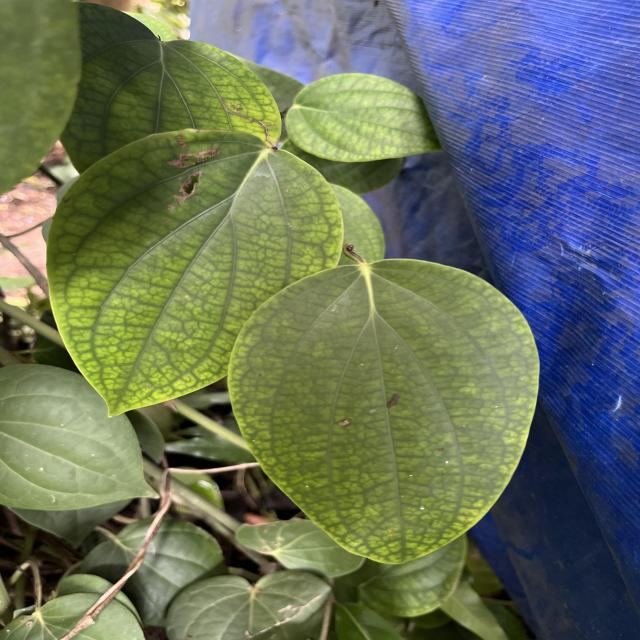Piper nigrum: (225, 256, 542, 567), (45, 126, 346, 420)
